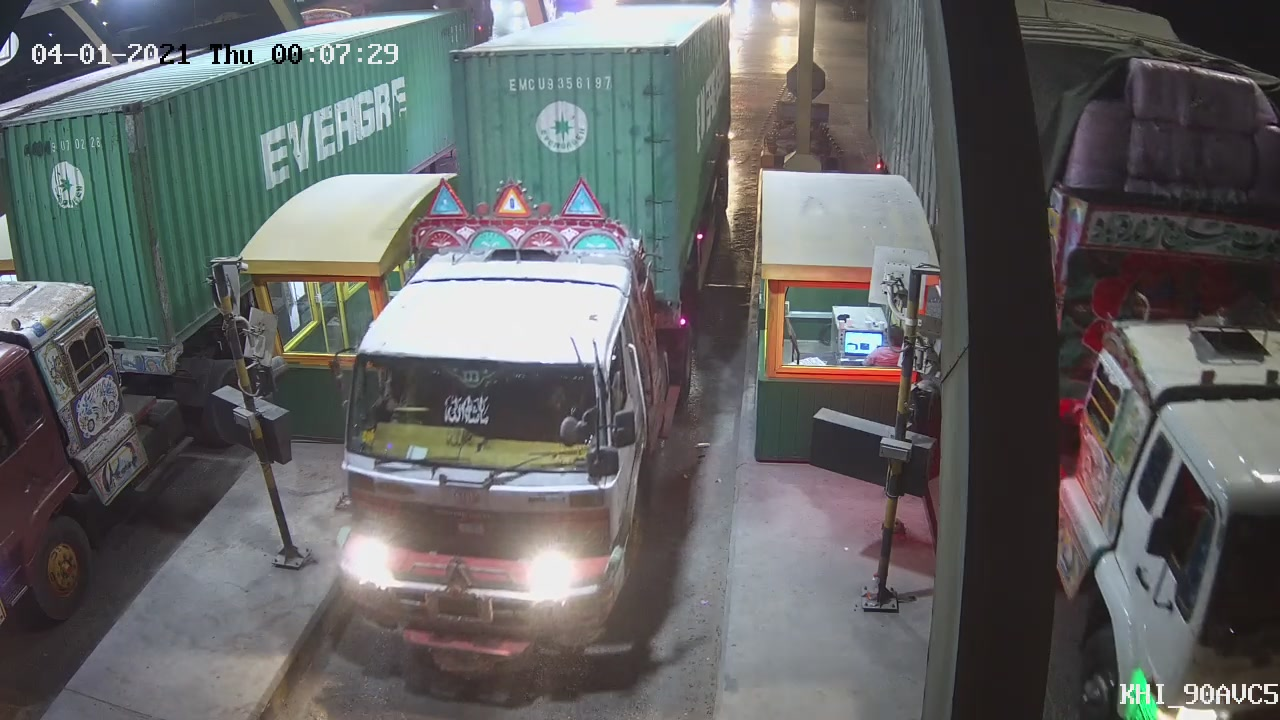F6: (331, 1, 737, 688)
